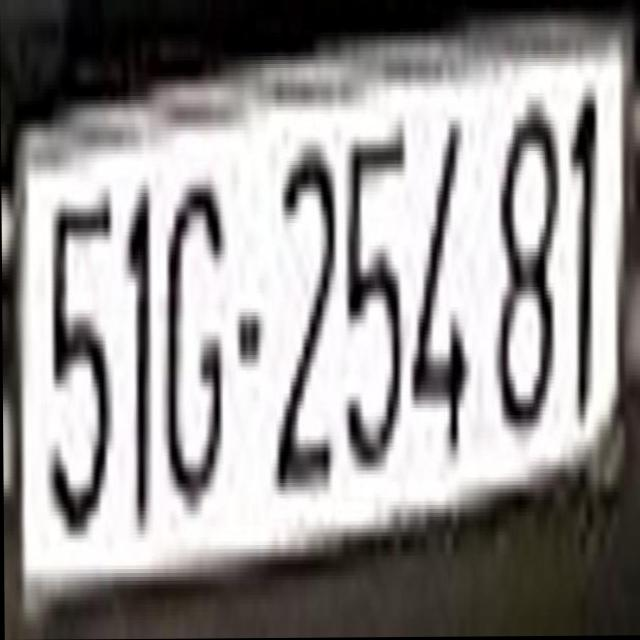1: (120, 162, 151, 535), (566, 82, 595, 431)
2: (271, 142, 338, 491)
4: (409, 118, 472, 463)
5: (49, 174, 113, 539), (343, 126, 405, 479)
8: (495, 93, 557, 436)
G: (162, 158, 225, 515)
